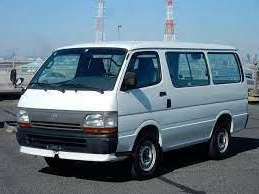van: (14, 42, 248, 174)
